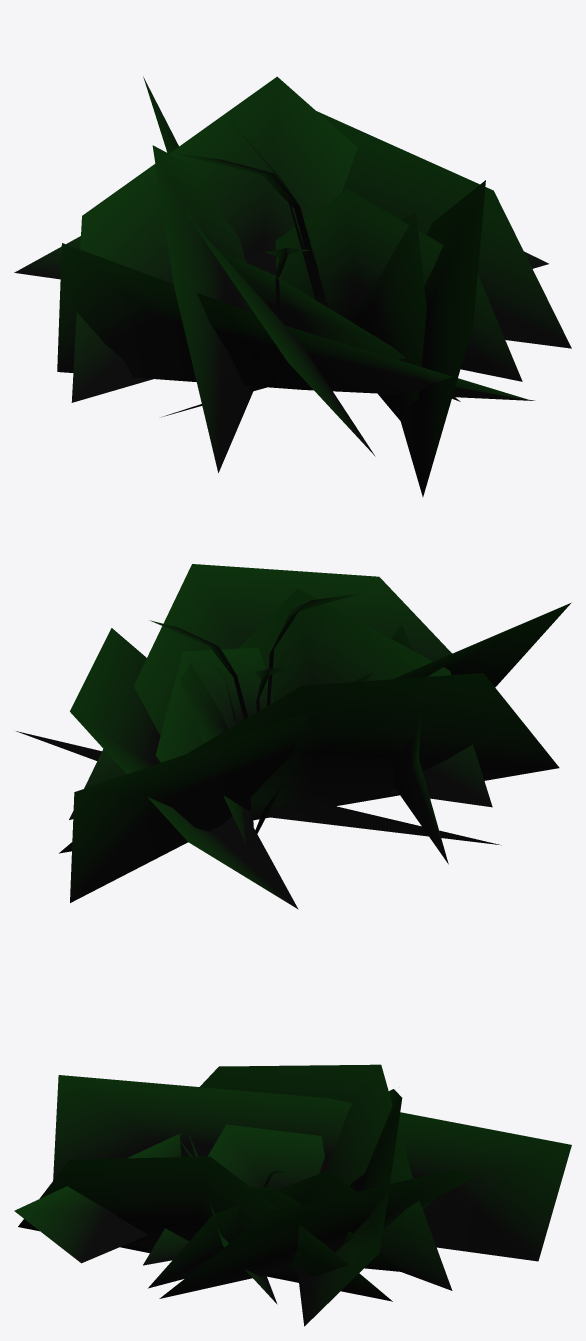
File: DryPlantsRHEP_B 02b.fbx
The picture shows the model from 3 angles, top to bottom: view 1: azimuth 30°, elevation 25°; view 2: azimuth 150°, elevation 25°; view 3: azimuth 270°, elevation 25°; orthographic projection. The views are drawn at different scales.
Parts seen in each view (by area): view 1: DPRHEPB02b_LOD0; view 2: DPRHEPB02b_LOD0; view 3: DPRHEPB02b_LOD0.
Boxes of the visible parts, box(x1,y1,x2,y2) form: DPRHEPB02b_LOD0: box(14, 76, 571, 496); DPRHEPB02b_LOD0: box(16, 564, 571, 909); DPRHEPB02b_LOD0: box(14, 1064, 571, 1326).
Size of what is drawn, in the model's own units: 1.25 by 0.7475 by 1.58.
